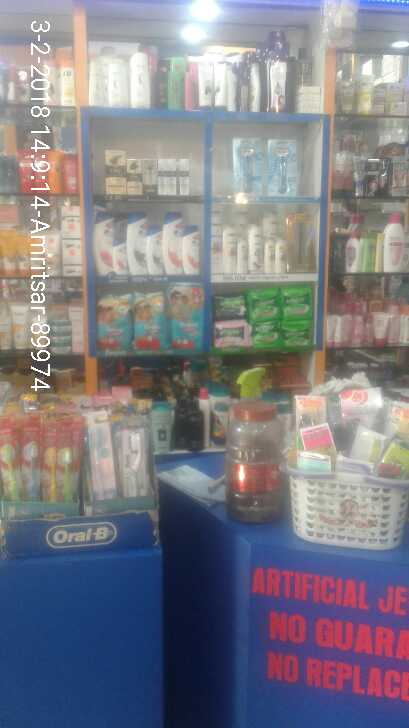venus: (269, 137, 303, 194), (232, 137, 263, 192)
